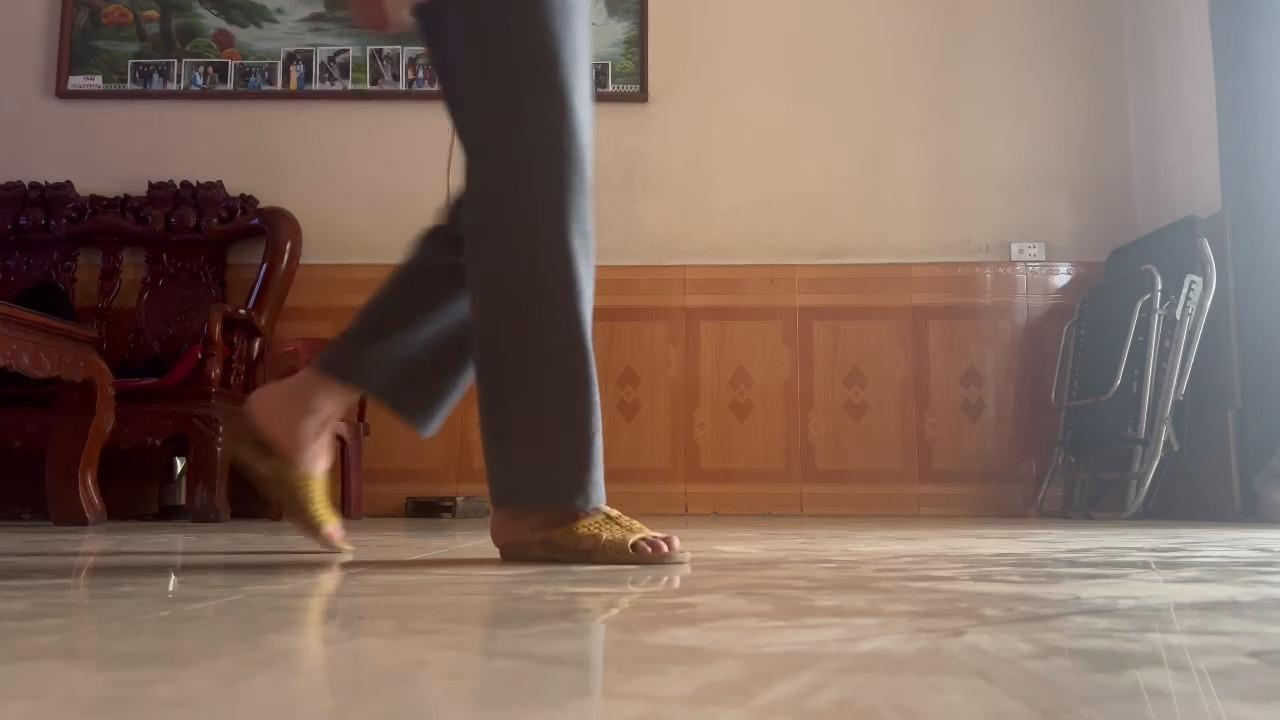no-boot: (217, 385, 392, 566), (482, 513, 690, 575)
